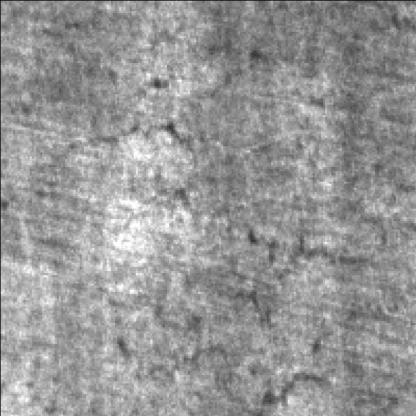crazing: (108, 289, 402, 412), (162, 204, 406, 333), (38, 85, 208, 227)
